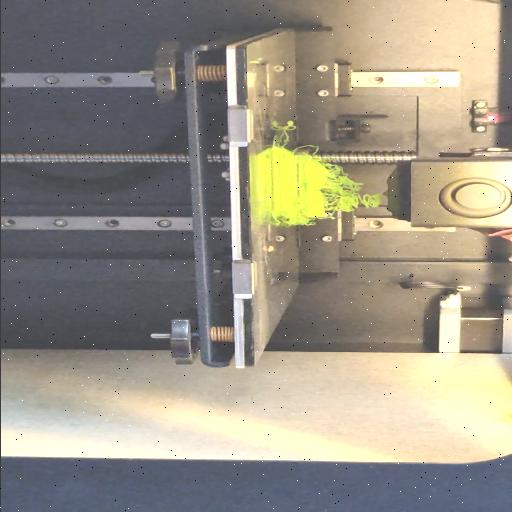spaghetti: (326, 157, 382, 217), (275, 118, 299, 144), (285, 144, 322, 154), (272, 214, 282, 226)
